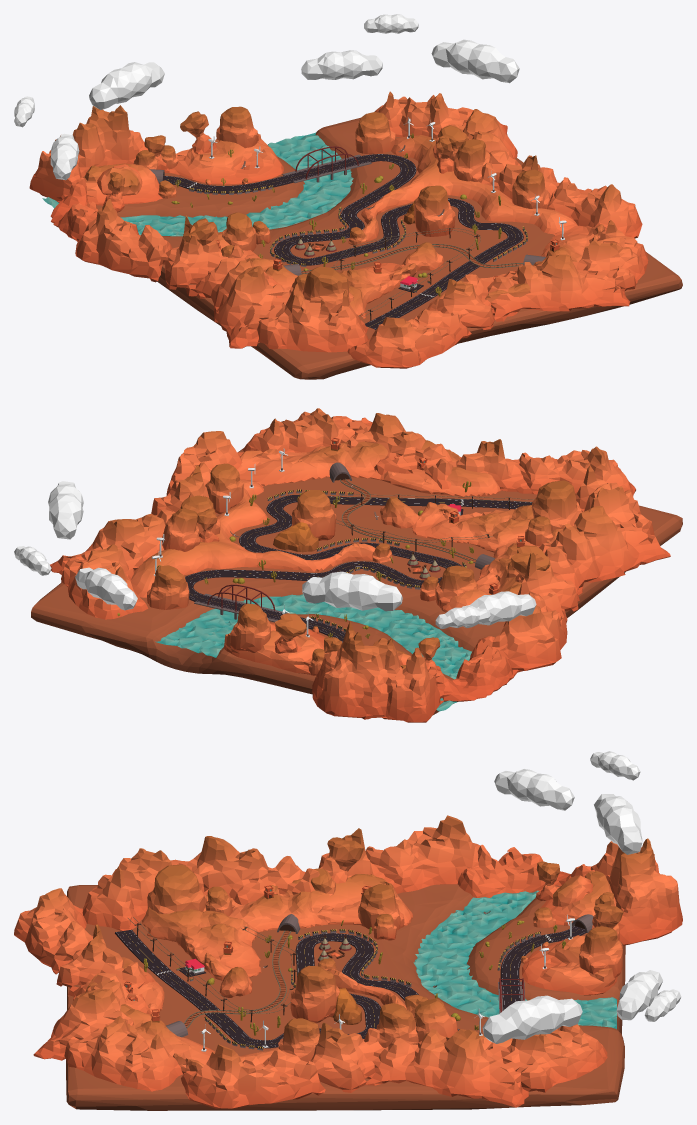
File: DesertRace.fbx
3 renders of one model, top to bottom at view 1: azimuth 30°, elevation 25°; view 2: azimuth 150°, elevation 25°; view 3: azimuth 270°, elevation 25°, orthographic. The views are drawn at different scales.
Parts seen in each view (by area): view 1: Circle.126; view 2: Circle.126; view 3: Circle.126.
Part boxes in pixels (<box>): Circle.126: <box>14,14,682,379</box>; Circle.126: <box>14,408,682,722</box>; Circle.126: <box>14,751,682,1110</box>.
Size of the model in its own units: 22040 by 5913 by 24623.
2 materials, 2 textured.
